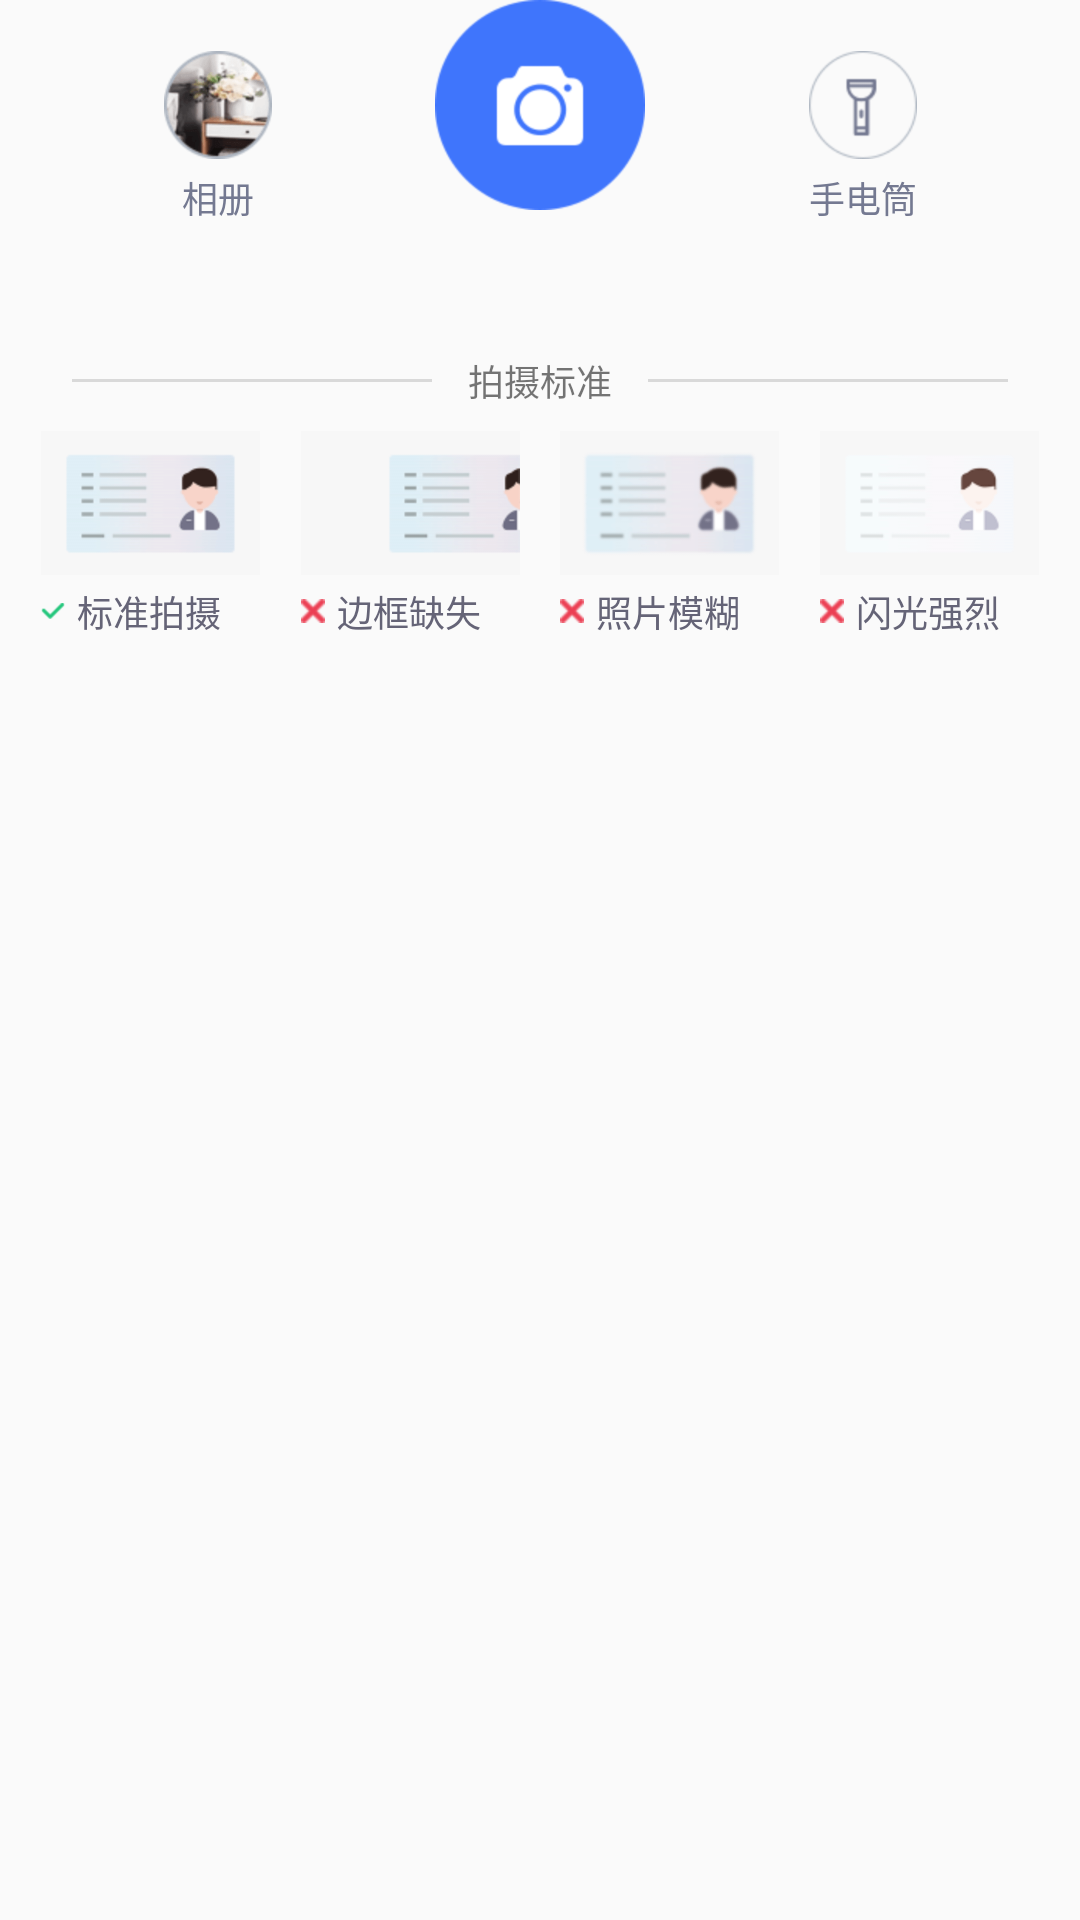

Icons on this 1080×1920 Android screen, each with its box as detection(x1, y1, x2, y2):
bottom tip false: detection(301, 599, 325, 623), detection(560, 599, 584, 623), detection(820, 599, 844, 623)
bottom tip true: detection(41, 603, 65, 619)
select photo: detection(164, 51, 272, 159)
take photo: detection(435, 0, 645, 210)
